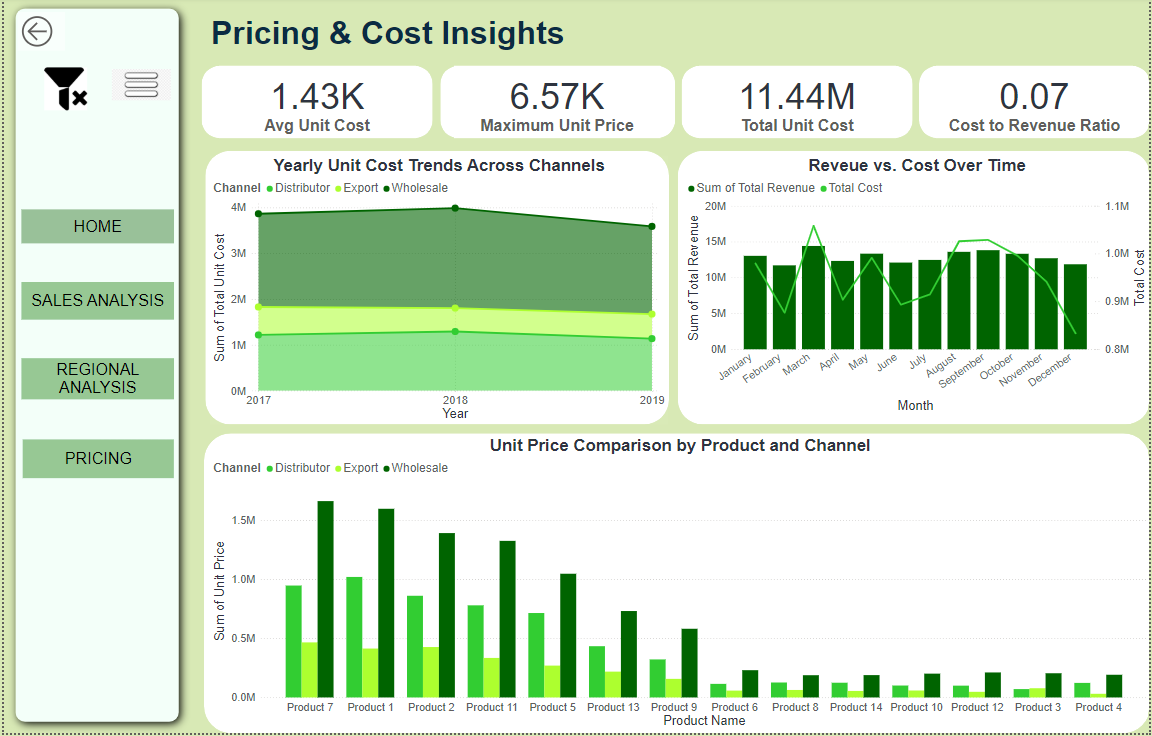

This screenshot's page, from the dashboard's own definition file:
{"tool":"powerbi","page":{"name":"Pricing","canvas":[1900,1220],"ordinal":3},"visuals":[{"type":"textbox","box":[337.7,24.9,667.2,97.4],"z":0},{"type":"shape","box":[0,0,308.7,1220.4],"z":1000},{"type":"shape","box":[327.5,113.5,383.3,120.2],"z":2000},{"type":"card","fields":{"Values":["Sales_Data.Avg Unit Cost"]},"box":[356.5,113.5,325.3,120.2],"z":3000},{"type":"shape","box":[723.4,113.5,389.5,120.2],"z":4000},{"type":"card","fields":{"Values":["Sales_Data.Maximum Unit Price"]},"box":[746.2,113.5,341.9,120.2],"z":5000},{"type":"shape","box":[1123,113.5,383.3,120.2],"z":6000},{"type":"card","fields":{"Values":["Sum(Sales_Data.Total Unit Cost)"]},"box":[1152,113.5,325.3,120.2],"z":7000},{"type":"shape","box":[1516.8,113.5,383.3,120.2],"z":8000},{"type":"card","fields":{"Values":["Sales_Data.Cost to Revenue Ratio"]},"box":[1545.9,113.5,325.3,120.2],"z":9000},{"type":"shape","box":[333.6,254.9,768.7,453.8],"z":10000},{"type":"stackedAreaChart","title":"Yearly Unit Cost Trends Across Channels","fields":{"Category":["Sales_Data.OrderDate.Variation.Date Hierarchy.Year"],"Y":["Sum(Sales_Data.Total Unit Cost)"],"Series":["Sales_Data.Channel"]},"box":[341.9,263.1,758.4,445.5],"z":11000},{"type":"shape","box":[1116.8,254.9,783.2,453.8],"z":12000},{"type":"shape","box":[331.5,722.7,1568.5,497.3],"z":13000},{"type":"clusteredColumnChart","title":"Unit Price Comparison by Product and Channel","fields":{"Category":["Sales_Data.Product Name"],"Y":["Sum(Sales_Data.Unit Price)"],"Series":["Sales_Data.Channel"]},"box":[341.9,727.3,1558.2,489],"z":14000},{"type":"actionButton","box":[22.8,24.9,78.7,64.2],"z":15000},{"type":"actionButton","box":[29,352.2,252.8,55.9],"z":16000},{"type":"actionButton","box":[29,472.4,252.8,62.2],"z":17000},{"type":"actionButton","box":[29,598.8,252.8,68.4],"z":18000},{"type":"actionButton","box":[31.1,733.5,250.7,64.2],"z":19000},{"type":"image","box":[174,95.3,107.7,99.5],"z":21000},{"type":"actionButton","box":[176.1,95.3,101.5,103.6],"z":22000},{"type":"image","box":[53.9,111.9,97.4,80.8],"z":23000},{"type":"lineClusteredColumnComboChart","title":"Reveue vs. Cost Over Time","fields":{"Y2":["Sales_Data.Total Cost"],"Y":["Sum(Sales_Data.Total Revenue)"],"Category":["Sales_Data.OrderDate.Variation.Date Hierarchy.Month"]},"box":[1127.2,263.1,772.9,431],"z":24000}]}

Visuals, with their boxes on the page's 1900x1220 design canvas (x1, y1, x2, y2). These are canvas units, not pixel positions in the 1152x736 screenshot, which may show the page scaled, cropped or inside an application window:
textbox: BBox(338, 25, 1005, 122)
shape: BBox(0, 0, 309, 1220)
shape: BBox(328, 114, 711, 234)
card - Sales_Data.Avg Unit Cost: BBox(356, 114, 682, 234)
shape: BBox(723, 114, 1113, 234)
card - Sales_Data.Maximum Unit Price: BBox(746, 114, 1088, 234)
shape: BBox(1123, 114, 1506, 234)
card - Sum(Sales_Data.Total Unit Cost): BBox(1152, 114, 1477, 234)
shape: BBox(1517, 114, 1900, 234)
card - Sales_Data.Cost to Revenue Ratio: BBox(1546, 114, 1871, 234)
shape: BBox(334, 255, 1102, 709)
"Yearly Unit Cost Trends Across Channels" stackedAreaChart: BBox(342, 263, 1100, 709)
shape: BBox(1117, 255, 1900, 709)
shape: BBox(332, 723, 1900, 1220)
"Unit Price Comparison by Product and Channel" clusteredColumnChart: BBox(342, 727, 1900, 1216)
actionButton: BBox(23, 25, 102, 89)
actionButton: BBox(29, 352, 282, 408)
actionButton: BBox(29, 472, 282, 535)
actionButton: BBox(29, 599, 282, 667)
actionButton: BBox(31, 734, 282, 798)
image: BBox(174, 95, 282, 195)
actionButton: BBox(176, 95, 278, 199)
image: BBox(54, 112, 151, 193)
"Reveue vs. Cost Over Time" lineClusteredColumnComboChart: BBox(1127, 263, 1900, 694)
